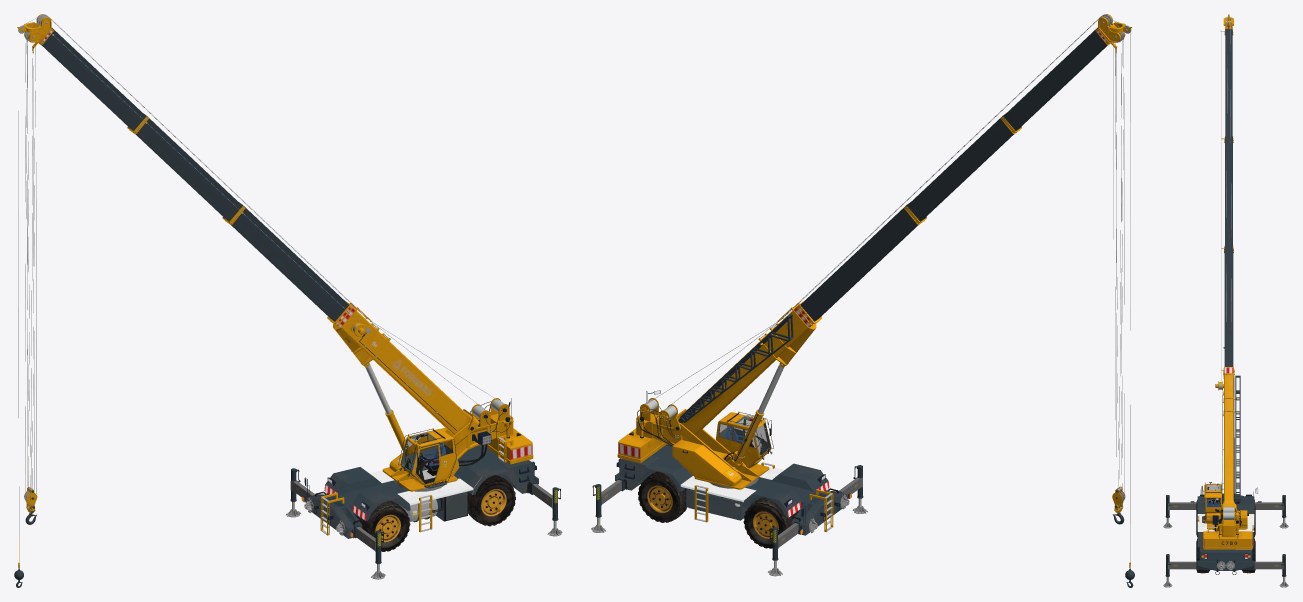
File: crane.glb
3 renders of one model, left to right at view 1: azimuth 30°, elevation 25°; view 2: azimuth 150°, elevation 25°; view 3: azimuth 270°, elevation 25°, orthographic. The views are drawn at different scales.
Parts seen in each view (by area): view 1: polySurface61, polySurface45, polySurface51, polySurface75, polySurface52, polySurface126, pCube33, polySurface110, pCylinder236, polySurface199, pCube26, polySurface63 (+2 smaller); view 2: polySurface61, polySurface51, polySurface75, polySurface45, polySurface52, pCube30, polySurface112, polySurface126, pCube26, pCube64, pCube33, pCylinder236 (+4 smaller); view 3: polySurface61, polySurface45, polySurface51, polySurface75, polySurface52, pCube33, polySurface175, polySurface112, polySurface110, polySurface126, pCylinder235, polySurface63 (+4 smaller).
Boxes of the visible parts, <box> form: polySurface61: <box>305,444,538,538</box>; polySurface45: <box>327,301,479,435</box>; polySurface51: <box>222,202,348,321</box>; polySurface75: <box>17,14,145,130</box>; polySurface52: <box>127,113,242,221</box>; polySurface126: <box>400,429,459,484</box>; pCube33: <box>484,428,533,464</box>; polySurface110: <box>290,468,381,563</box>; pCylinder236: <box>18,14,498,562</box>; polySurface199: <box>471,482,514,524</box>; pCube26: <box>411,419,496,478</box>; polySurface63: <box>27,16,485,486</box>; polySurface61: <box>615,444,848,535</box>; polySurface51: <box>800,202,926,321</box>; polySurface75: <box>1003,14,1132,130</box>; polySurface45: <box>670,300,822,435</box>; polySurface52: <box>907,113,1021,221</box>; pCube30: <box>672,439,741,486</box>; polySurface112: <box>680,313,793,422</box>; polySurface126: <box>716,412,771,468</box>; pCube26: <box>653,419,745,472</box>; pCube64: <box>686,488,754,520</box>; pCube33: <box>617,428,666,463</box>; pCylinder236: <box>647,16,1130,562</box>; polySurface61: <box>1197,493,1254,570</box>; polySurface45: <box>1221,367,1236,513</box>; polySurface51: <box>1224,245,1233,366</box>; polySurface75: <box>1223,14,1233,136</box>; polySurface52: <box>1224,136,1233,245</box>; pCube33: <box>1203,531,1252,549</box>; polySurface175: <box>1165,554,1286,576</box>; polySurface112: <box>1233,375,1240,500</box>; polySurface110: <box>1165,495,1286,517</box>; polySurface126: <box>1204,483,1221,523</box>; pCylinder235: <box>1221,31,1221,383</box>; polySurface63: <box>1226,55,1227,488</box>.
Size of the model in its own units: 27.47 by 31.08 by 8.59.
14 materials, 13 textured.
